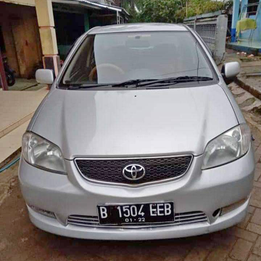plate: (97, 201, 175, 221)
